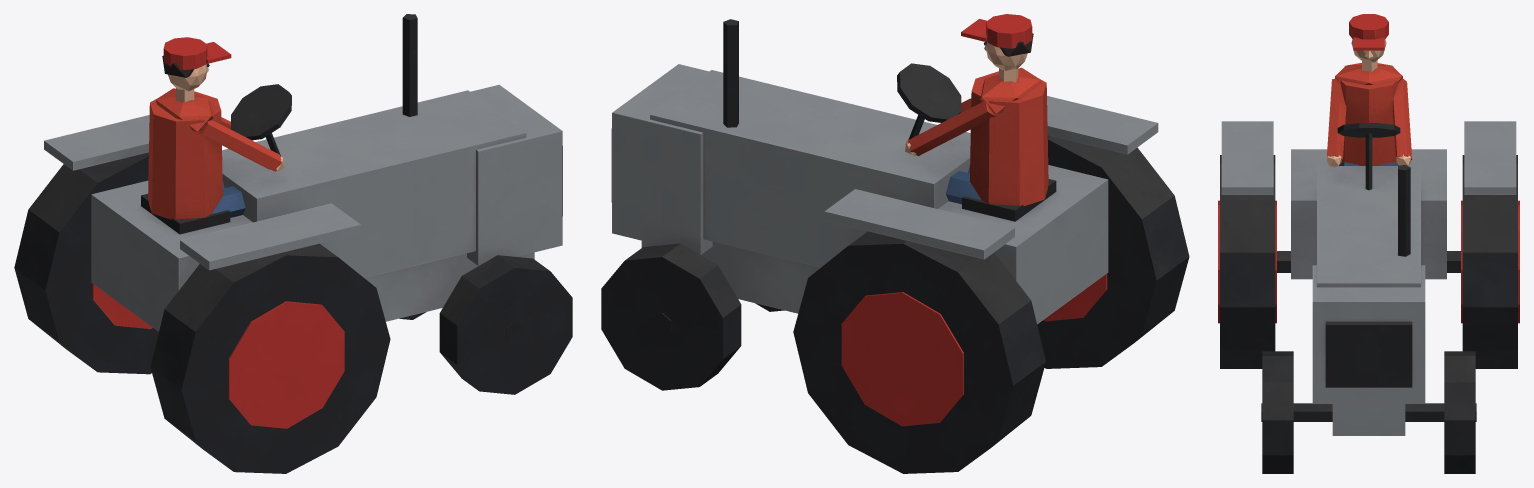
File: traktor_tex.glb
3 renders of one model, left to right at view 1: azimuth 30°, elevation 25°; view 2: azimuth 150°, elevation 25°; view 3: azimuth 270°, elevation 25°, orthographic. The views are drawn at different scales.
Parts seen in each view (by area): view 1: traktor; view 2: traktor; view 3: traktor.
Part boxes in pixels (bbox=[...]): traktor: bbox=[14, 14, 572, 473]; traktor: bbox=[601, 14, 1189, 473]; traktor: bbox=[1218, 14, 1519, 473].
Size of the model in its own units: 2.61 by 2.1 by 1.74.
Materials: 9 (8 with a texture image).
